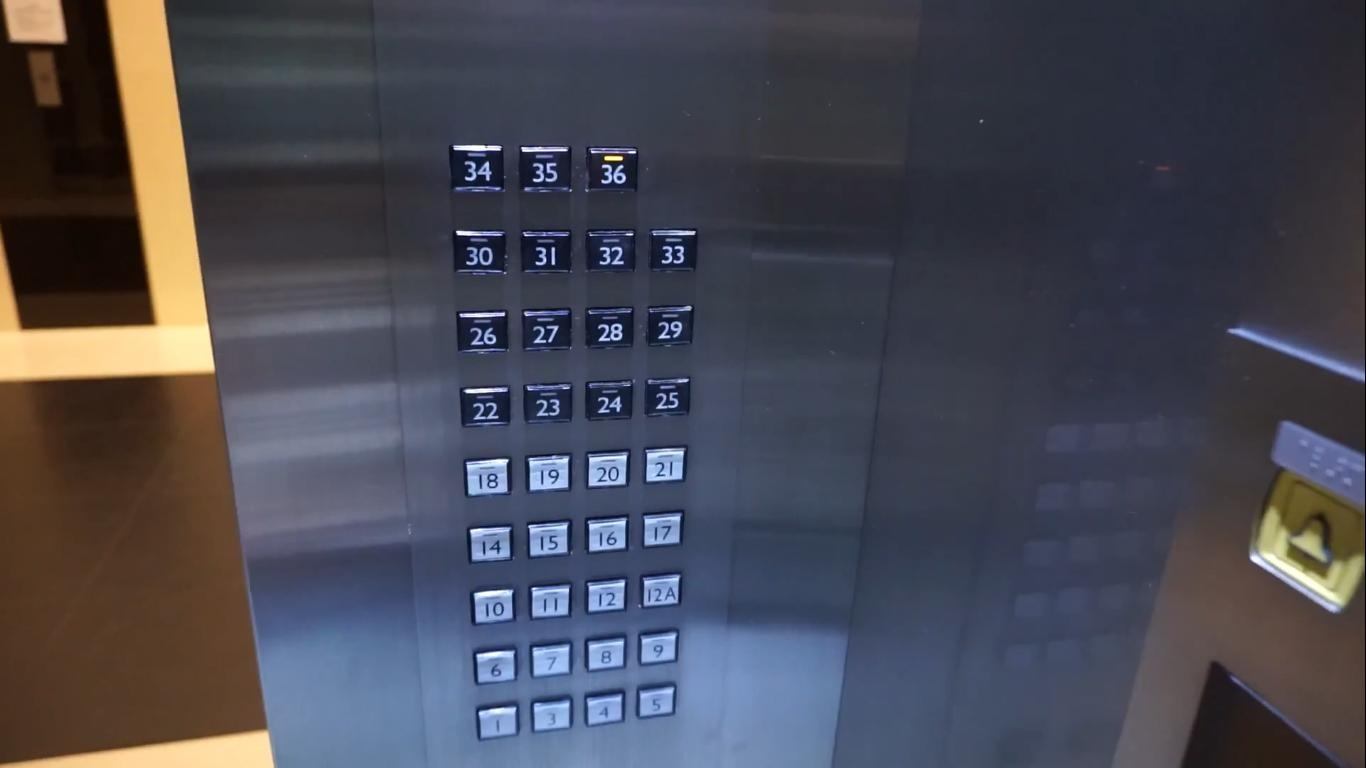1: (472, 700, 522, 742)
10: (469, 586, 517, 626)
11: (523, 578, 575, 623)
12: (581, 573, 629, 616)
12A: (636, 568, 684, 611)
14: (464, 522, 515, 566)
15: (523, 516, 574, 560)
16: (580, 512, 631, 556)
17: (636, 506, 687, 550)
18: (460, 453, 512, 498)
19: (521, 449, 574, 494)
20: (581, 446, 634, 491)
21: (638, 442, 691, 487)
22: (456, 381, 513, 429)
23: (519, 378, 576, 426)
24: (583, 377, 634, 421)
25: (642, 374, 692, 418)
26: (454, 307, 511, 355)
27: (517, 305, 574, 353)
28: (580, 303, 637, 351)
29: (644, 302, 696, 347)
3: (527, 695, 573, 734)
30: (449, 225, 509, 277)
31: (516, 224, 576, 276)
32: (582, 225, 637, 275)
33: (644, 224, 699, 274)
34: (445, 141, 505, 194)
35: (515, 142, 575, 195)
36: (583, 142, 639, 195)
4: (580, 689, 626, 728)
5: (632, 682, 678, 721)
6: (470, 645, 518, 686)
7: (527, 640, 573, 679)
8: (581, 633, 629, 673)
9: (635, 626, 680, 667)
